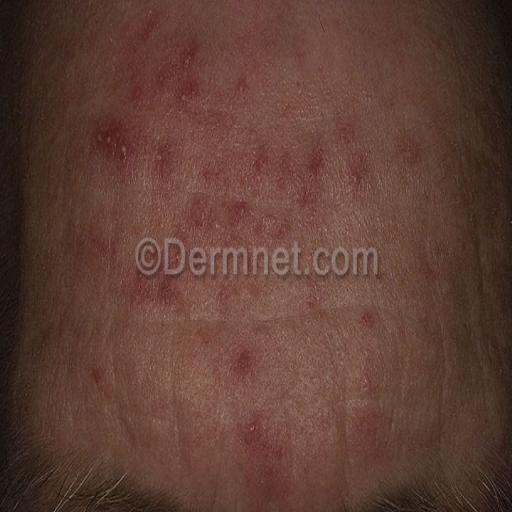Skin_Lesion: (169, 36, 209, 126), (130, 256, 180, 319), (91, 111, 134, 173), (349, 157, 376, 238), (76, 217, 113, 267), (220, 272, 250, 325), (306, 146, 339, 194), (233, 330, 259, 386), (242, 406, 270, 456), (254, 150, 290, 188), (85, 354, 111, 402), (253, 274, 277, 326), (154, 137, 176, 189), (222, 186, 254, 219), (137, 3, 161, 44), (175, 212, 198, 246), (229, 69, 252, 100), (357, 304, 375, 338)
